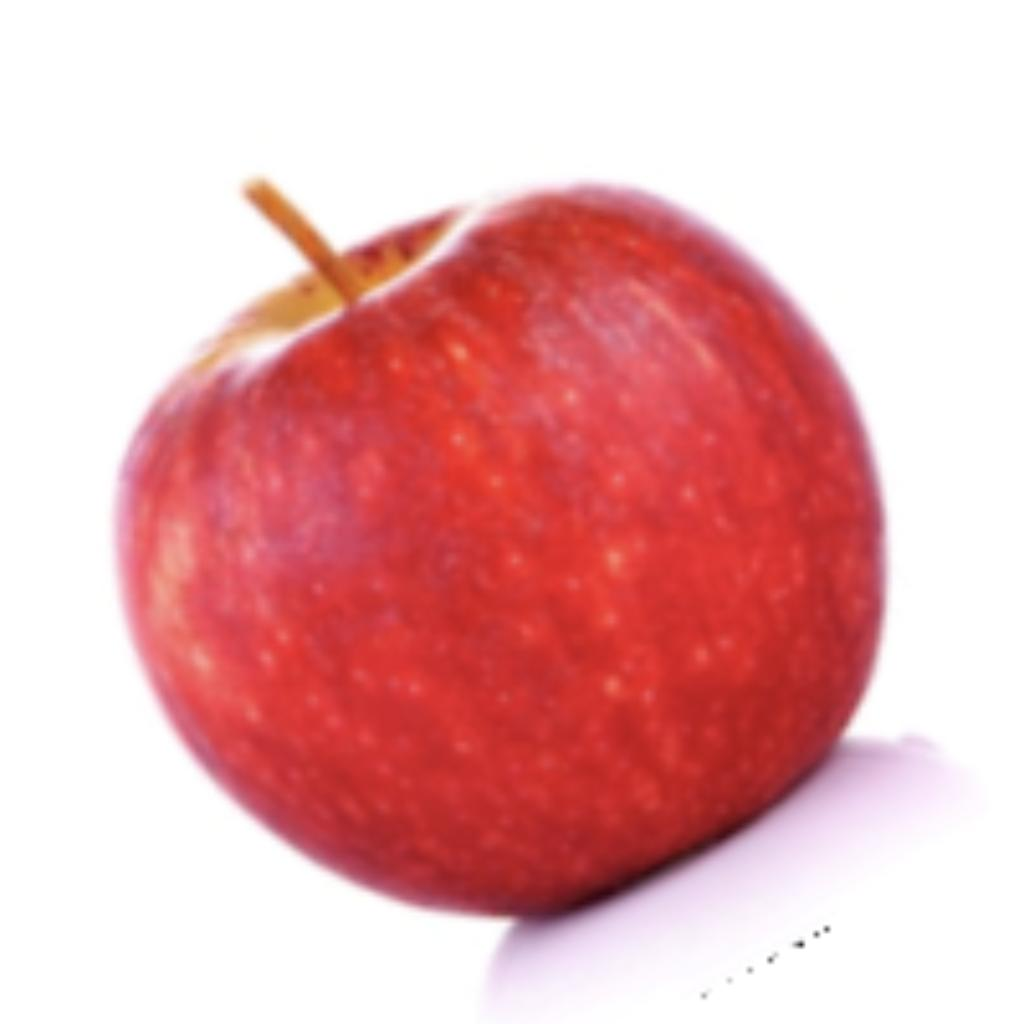apple: (102, 169, 979, 1017)
